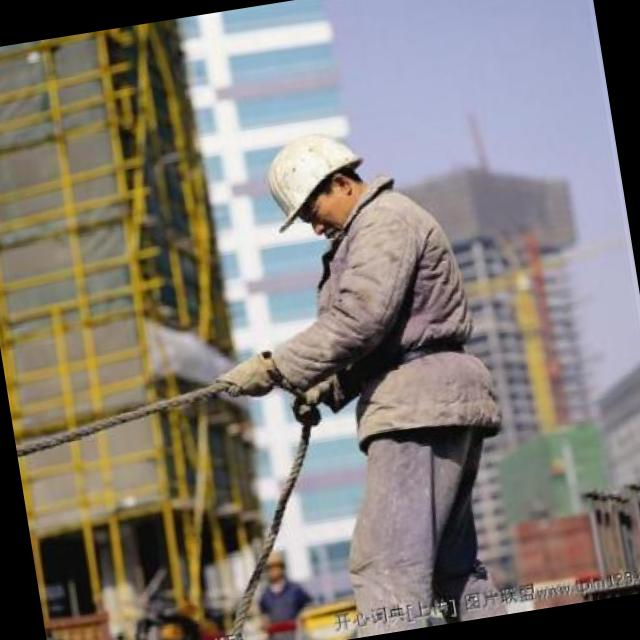helmet: (241, 114, 391, 256)
